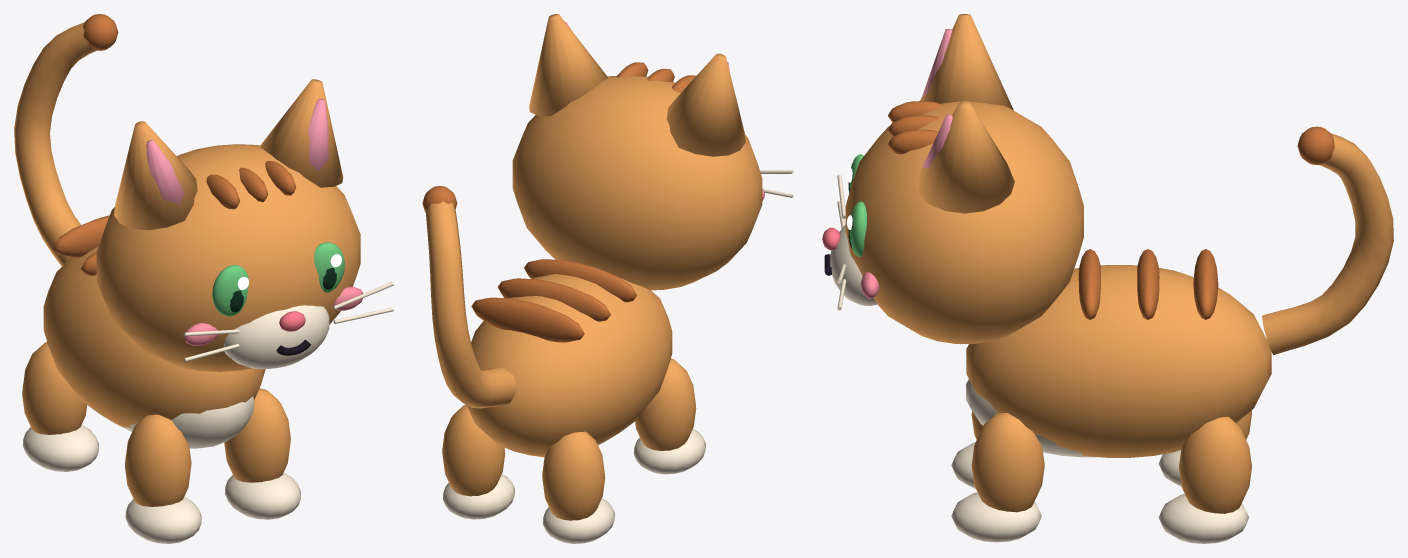
Rendered from miso.glb.
3 renders of one model, left to right at view 1: azimuth 30°, elevation 25°; view 2: azimuth 150°, elevation 25°; view 3: azimuth 270°, elevation 25°, orthographic. The views are drawn at different scales.
Visible parts, largest first — view 1: miso_Skull, miso_Torso, miso_TailFur, miso_LegFur_FL, miso_EarOuter_L, miso_LegFur_FR, miso_Muzzle, miso_EarOuter_R, miso_LegFur_BL, miso_Paw_FL, miso_Paw_FR, miso_Paw_BL (+11 smaller); view 2: miso_Skull, miso_Torso, miso_TailFur, miso_EarOuter_L, miso_LegFur_BL, miso_EarOuter_R, miso_LegFur_BR, miso_LegFur_FL, miso_BackStripe_2, miso_BackStripe_1, miso_BackStripe_0, miso_Paw_BL (+3 smaller); view 3: miso_Torso, miso_Skull, miso_TailFur, miso_EarOuter_R, miso_LegFur_FR, miso_LegFur_BR, miso_EarOuter_L, miso_Paw_BR, miso_Paw_FR, miso_Muzzle, miso_BackStripe_2, miso_BackStripe_1 (+6 smaller).
Part boxes in pixels (left/top/right/bottom): miso_Skull: left=96, top=144, right=360, bottom=371; miso_Torso: left=43, top=246, right=265, bottom=428; miso_TailFur: left=14, top=22, right=96, bottom=266; miso_LegFur_FL: left=125, top=414, right=191, bottom=506; miso_EarOuter_L: left=114, top=121, right=197, bottom=230; miso_LegFur_FR: left=224, top=388, right=290, bottom=482; miso_Muzzle: left=223, top=305, right=329, bottom=369; miso_EarOuter_R: left=259, top=79, right=343, bottom=187; miso_LegFur_BL: left=22, top=342, right=87, bottom=434; miso_Paw_FL: left=125, top=496, right=201, bottom=543; miso_Paw_FR: left=225, top=472, right=300, bottom=519; miso_Paw_BL: left=23, top=425, right=98, bottom=471; miso_Skull: left=512, top=76, right=762, bottom=290; miso_Torso: left=467, top=274, right=672, bottom=457; miso_TailFur: left=425, top=201, right=516, bottom=408; miso_EarOuter_L: left=666, top=53, right=745, bottom=156; miso_LegFur_BL: left=542, top=431, right=605, bottom=520; miso_EarOuter_R: left=529, top=14, right=607, bottom=116; miso_LegFur_BR: left=442, top=404, right=505, bottom=496; miso_LegFur_FL: left=635, top=358, right=696, bottom=450; miso_BackStripe_2: left=471, top=297, right=584, bottom=342; miso_BackStripe_1: left=497, top=278, right=610, bottom=321; miso_BackStripe_0: left=524, top=259, right=636, bottom=302; miso_Paw_BL: left=543, top=498, right=614, bottom=543; miso_Torso: left=966, top=265, right=1271, bottom=457; miso_Skull: left=845, top=101, right=1083, bottom=343; miso_TailFur: left=1262, top=133, right=1393, bottom=355; miso_EarOuter_R: left=915, top=101, right=1014, bottom=213; miso_LegFur_FR: left=971, top=413, right=1044, bottom=512; miso_LegFur_BR: left=1179, top=416, right=1251, bottom=513; miso_EarOuter_L: left=920, top=14, right=1013, bottom=110; miso_Paw_BR: left=1158, top=494, right=1248, bottom=543; miso_Paw_FR: left=951, top=492, right=1041, bottom=542; miso_Muzzle: left=830, top=225, right=877, bottom=305; miso_BackStripe_2: left=1193, top=249, right=1218, bottom=319; miso_BackStripe_1: left=1137, top=249, right=1159, bottom=319.
Size of the model in its own units: 0.2939 by 0.5185 by 0.593.
